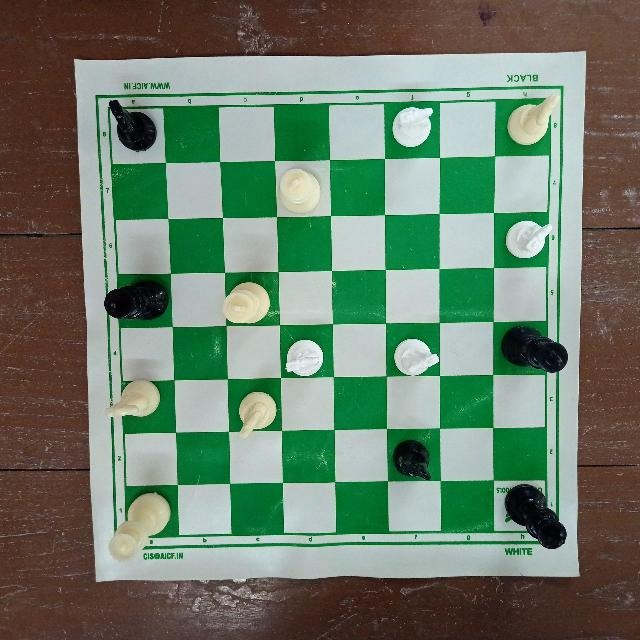black-king: (501, 483, 575, 554), (497, 324, 570, 377), (102, 273, 170, 326)
black-knight: (104, 93, 160, 157), (392, 437, 433, 483)
white-king: (222, 277, 276, 331), (278, 167, 326, 217)
white-knight: (505, 93, 555, 151), (106, 377, 161, 423), (391, 102, 439, 154), (500, 214, 549, 262), (387, 334, 439, 379), (230, 389, 277, 438), (280, 339, 328, 381)
white-queen: (104, 488, 172, 564)
